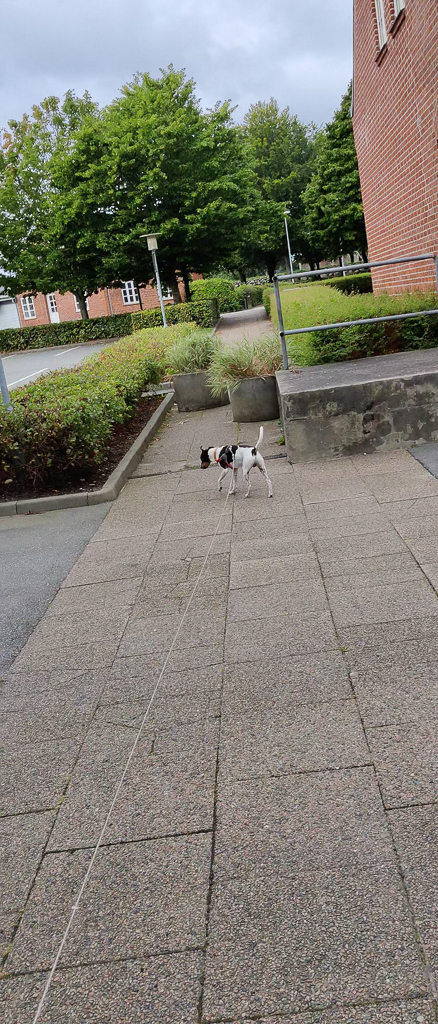Dog: (194, 420, 282, 502)
